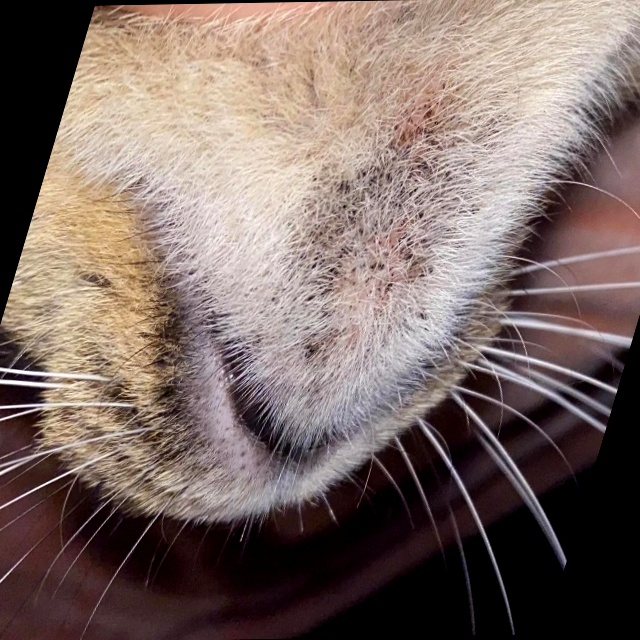acne: (232, 88, 501, 417)
